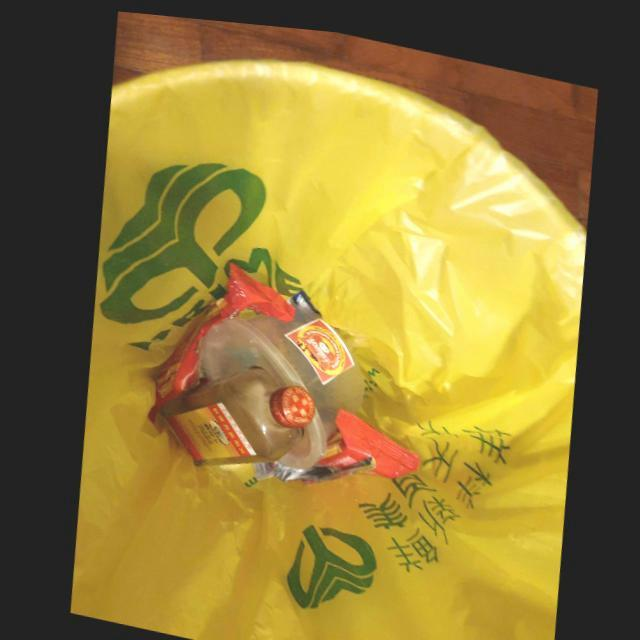glass_bottle: (151, 361, 314, 463)
plastic_container: (195, 302, 365, 468)
